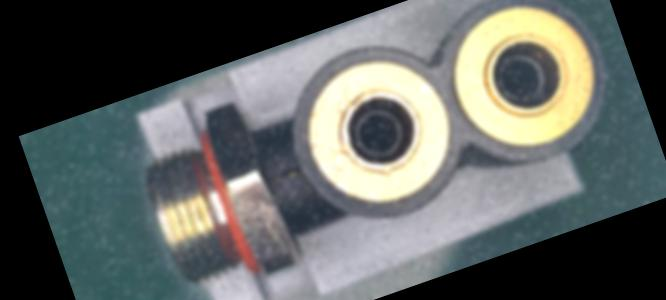craze: (263, 161, 303, 187)
